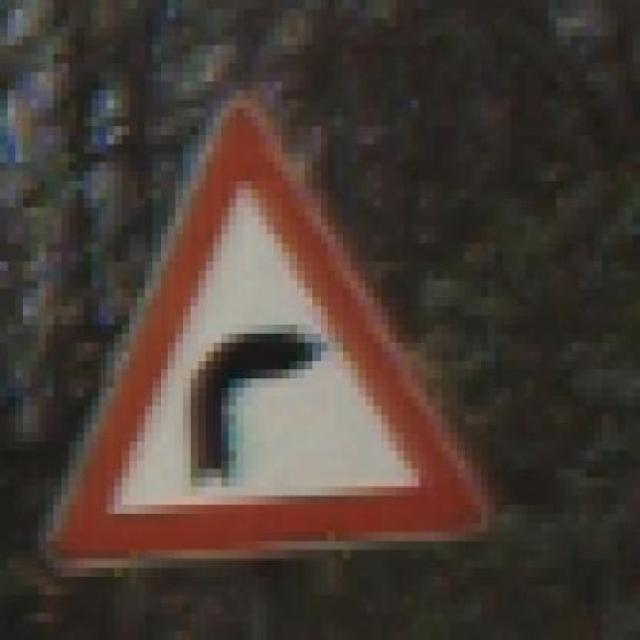Dangerous Rright Curve Ahead: (31, 90, 495, 568)
